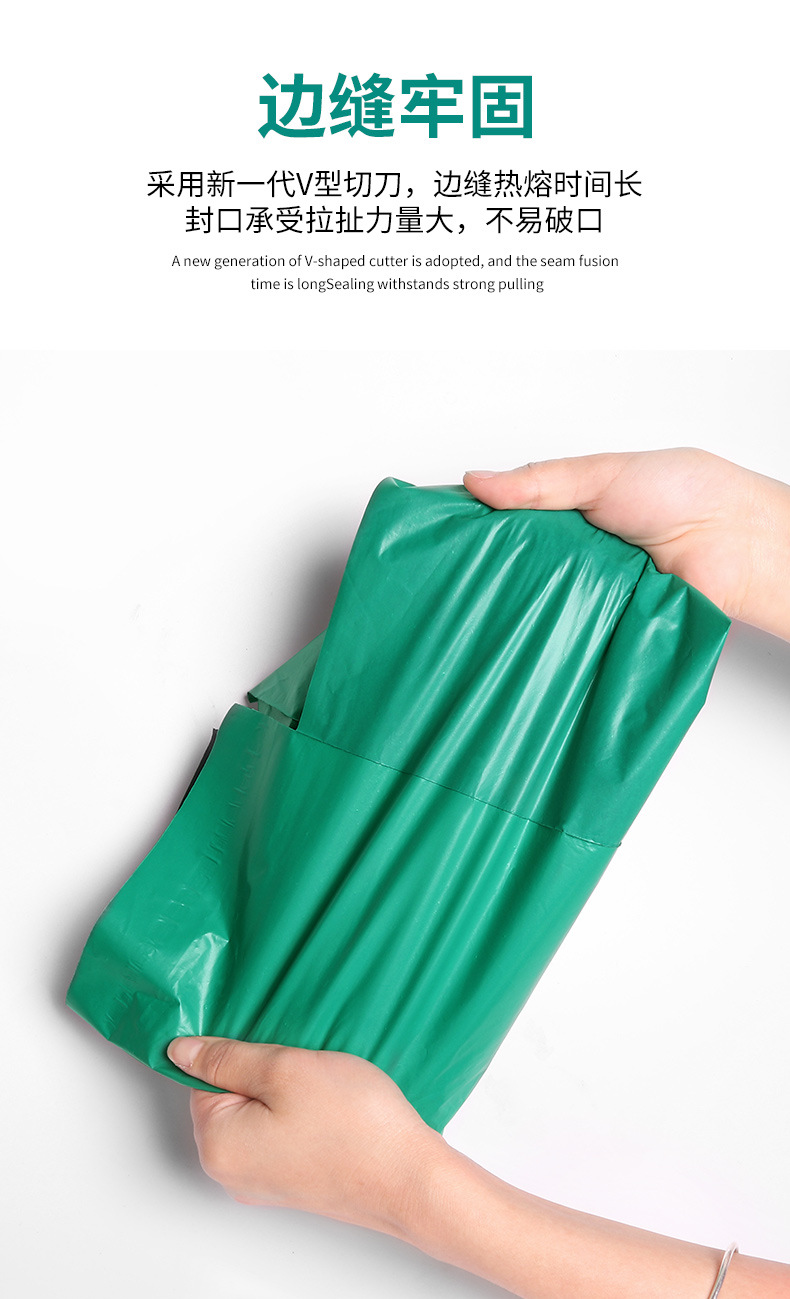塑料袋: (47, 408, 756, 1215)
